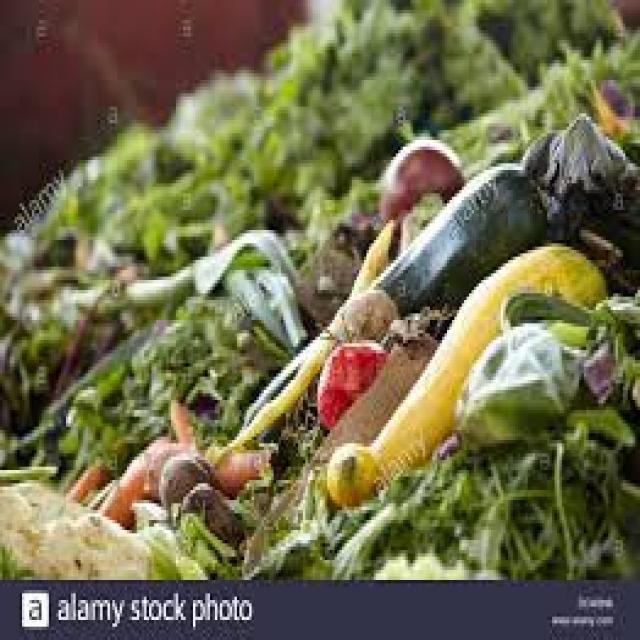organic waste: (0, 0, 638, 570), (322, 237, 604, 503), (239, 327, 435, 570), (215, 220, 410, 450), (371, 157, 545, 310), (0, 460, 205, 573), (93, 433, 278, 530), (520, 113, 638, 250), (376, 126, 462, 236), (154, 450, 239, 537), (315, 337, 381, 423), (161, 400, 205, 453), (68, 460, 112, 500)
